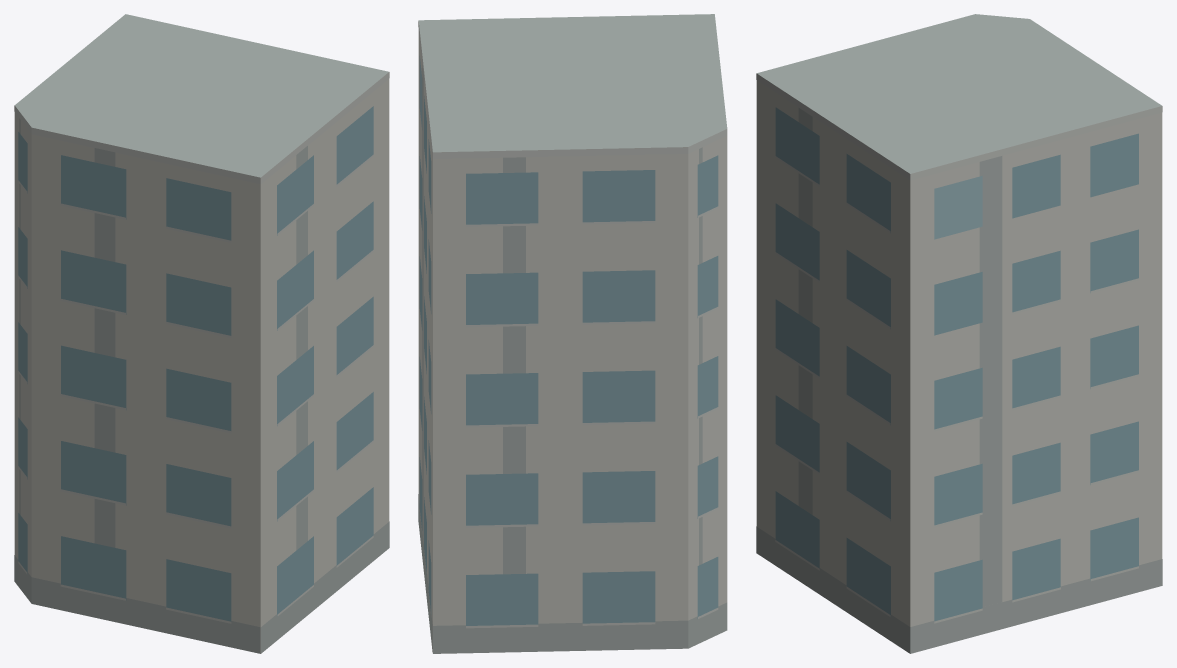
The model's file is residential-e3e62069-78d5-4ff7-812e-5255db139776.glb.
The picture shows the model from 3 angles, left to right: view 1: azimuth 30°, elevation 25°; view 2: azimuth 150°, elevation 25°; view 3: azimuth 270°, elevation 25°; orthographic projection. The views are drawn at different scales.
Parts seen in each view (by area): view 1: residential-e3e62069-78d5-4ff7-812e-5255db139776.tmp; view 2: residential-e3e62069-78d5-4ff7-812e-5255db139776.tmp; view 3: residential-e3e62069-78d5-4ff7-812e-5255db139776.tmp.
Part boxes in pixels (box(x1,y1,x2,y2)): residential-e3e62069-78d5-4ff7-812e-5255db139776.tmp: box(14, 14, 389, 653); residential-e3e62069-78d5-4ff7-812e-5255db139776.tmp: box(418, 14, 727, 653); residential-e3e62069-78d5-4ff7-812e-5255db139776.tmp: box(756, 14, 1162, 653).
Size of the model in its own units: 12.66 by 17.7 by 13.58.
